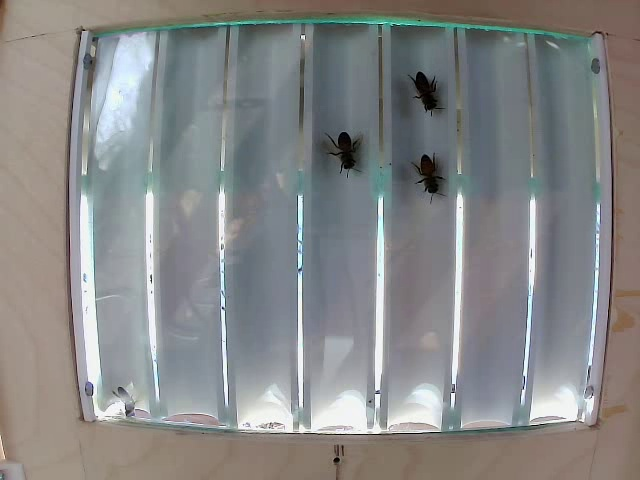bee: (415, 154, 452, 200), (329, 133, 366, 172), (422, 64, 444, 106)
